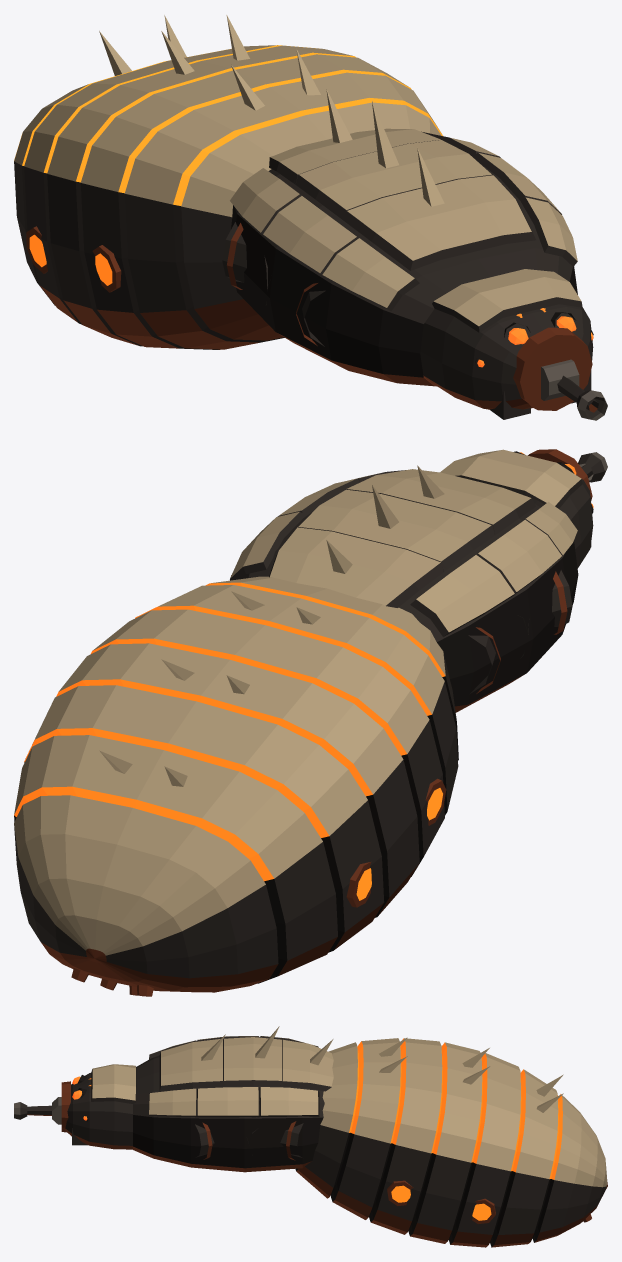
File: queen.glb
3 views of the same model, one above another, from view 1: azimuth 30°, elevation 25°; view 2: azimuth 150°, elevation 25°; view 3: azimuth 270°, elevation 25° (orthographic). The views are drawn at different scales.
Visible parts, largest first — view 1: Queen_Thorax, Queen_AbdomenL, Queen_AbdomenR, Queen_Tibia, Queen_Femur; view 2: Queen_AbdomenL, Queen_Thorax, Queen_AbdomenR; view 3: Queen_AbdomenR, Queen_Thorax, Queen_AbdomenL, Queen_Tibia.
Boxes of the visible parts, bbox=[...] form: Queen_Thorax: bbox=[222, 89, 593, 419]; Queen_AbdomenL: bbox=[14, 31, 327, 349]; Queen_AbdomenR: bbox=[164, 15, 442, 139]; Queen_Tibia: bbox=[557, 375, 607, 420]; Queen_Femur: bbox=[541, 359, 579, 400]; Queen_AbdomenL: bbox=[94, 588, 458, 996]; Queen_Thorax: bbox=[230, 449, 593, 712]; Queen_AbdomenR: bbox=[14, 576, 326, 990]; Queen_AbdomenR: bbox=[295, 1056, 607, 1247]; Queen_Thorax: bbox=[61, 1026, 333, 1172]; Queen_AbdomenL: bbox=[328, 1037, 607, 1182]; Queen_Tibia: bbox=[14, 1102, 52, 1119].
Bounding box in the file's own units: 11.16 × 10.51 × 28.7.
